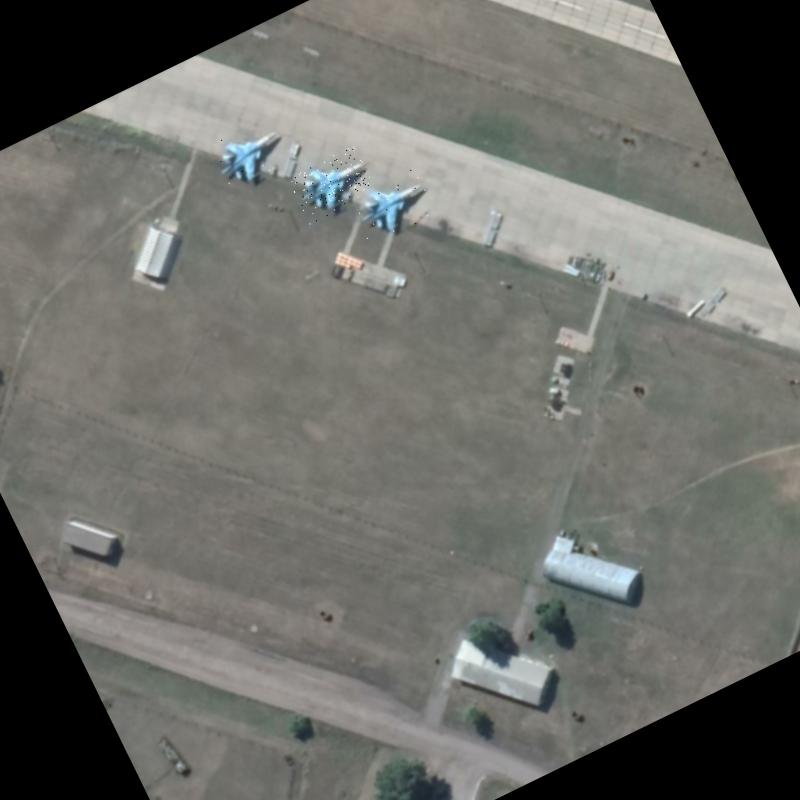A19: (286, 144, 378, 225), (347, 165, 438, 246), (206, 116, 292, 194)
